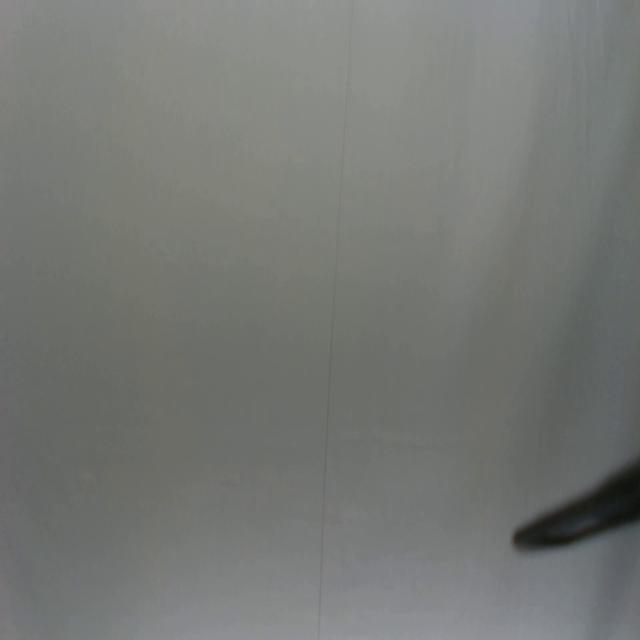crease: (315, 1, 355, 640)
